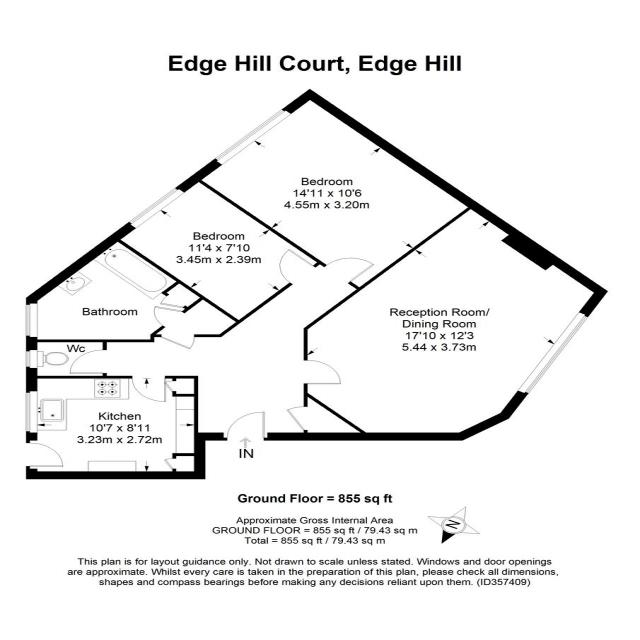DOOR: (322, 255, 381, 286), (277, 246, 318, 286), (225, 409, 269, 441), (26, 441, 66, 471), (303, 358, 344, 386), (129, 376, 168, 404), (68, 349, 107, 376), (152, 305, 187, 328), (156, 334, 197, 351)
ROOM: (303, 200, 608, 441), (191, 89, 478, 291), (108, 175, 322, 324), (26, 376, 205, 480)
WINDOW: (511, 305, 597, 401), (209, 107, 294, 170), (123, 184, 187, 232), (24, 389, 39, 434), (24, 302, 38, 338), (23, 349, 39, 370)
